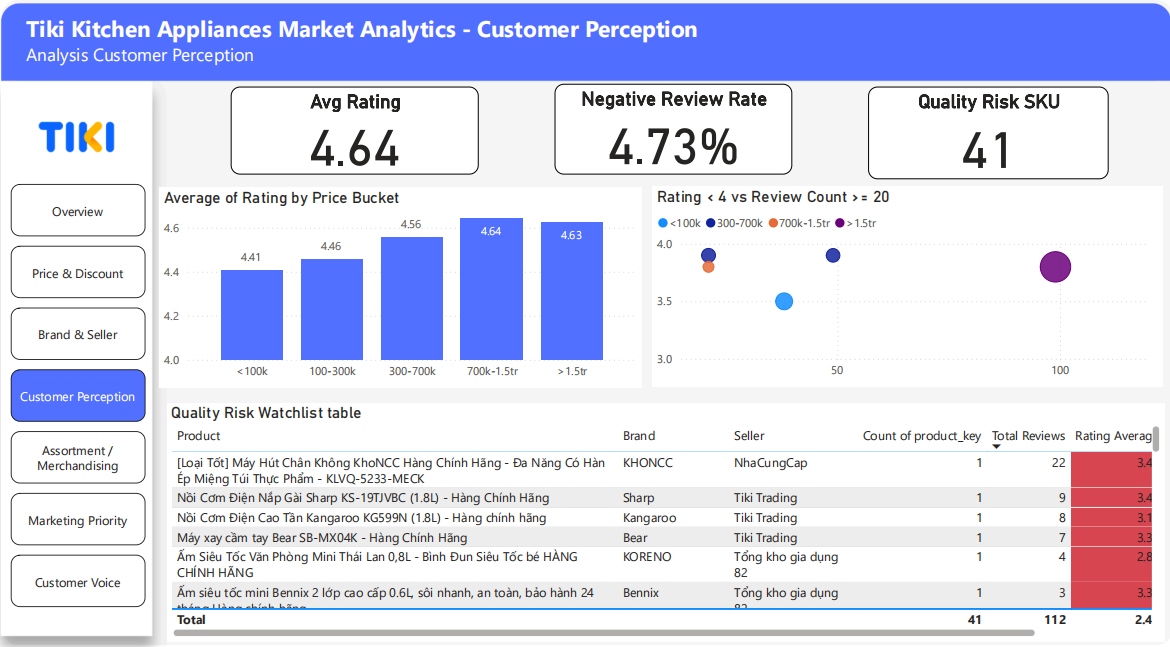

This screenshot's page, from the dashboard's own definition file:
{"tool":"powerbi","page":{"name":"Customer Perception","canvas":[1280,720],"ordinal":3},"visuals":[{"type":"textbox","box":[38.6,24.3,904.3,78.6],"z":0},{"type":"card","title":"Avg Rating","fields":{"Values":["_Measures.Avg Rating"]},"box":[261.7,108.3,265,93.3],"z":2000},{"type":"card","title":"Negative Review Rate","fields":{"Values":["_Measures.Negative Review Rate"]},"box":[608.3,105,253.3,96.7],"z":3000},{"type":"card","title":"Quality Risk SKU","fields":{"Values":["_Measures.Quality Risk SKU Count"]},"box":[943.3,108.3,256.7,98.3],"z":4000},{"type":"scatterChart","title":"Rating < 4 vs Review Count >= 20","fields":{"Category":["dim_product.product_key"],"Series":["fact_product_metrics.price_bucket"],"Size":["_Measures.Total Units Sold"],"X":["Sum(fact_product_metrics.crawled_review_count)"],"Y":["Avg(fact_product_metrics.rating_average)"]},"box":[713.3,215,545,214.2],"z":7000},{"type":"tableEx","title":"Quality Risk Watchlist table","fields":{"Values":["dim_product.product_name","dim_brand.brand_name","dim_seller.seller_name","dim_product.product_key","Sum(fact_product_metrics.review_count)","Avg(fact_product_metrics.rating_average)","Sum(fact_product_metrics.quantity_sold_value)"]},"box":[193.8,446.2,1066.2,255],"z":8000},{"type":"clusteredColumnChart","title":"Average of Rating by Price Bucket","fields":{"Category":["fact_product_metrics.price_bucket"],"Y":["Avg(fact_product_metrics.rating_average)"]},"box":[185.7,215.7,515.7,214.3],"z":9000},{"type":"pageNavigator","box":[27,211.9,143.6,456.5],"z":10000}]}

Visuals, with their boxes on the page's 1280x720 design canvas (x1, y1, x2, y2). These are canvas units, not pixel positions in the 1170x647 screenshot, which may show the page scaled, cropped or inside an application window:
textbox: {"x1": 39, "y1": 24, "x2": 943, "y2": 103}
"Avg Rating" card: {"x1": 262, "y1": 108, "x2": 527, "y2": 202}
"Negative Review Rate" card: {"x1": 608, "y1": 105, "x2": 862, "y2": 202}
"Quality Risk SKU" card: {"x1": 943, "y1": 108, "x2": 1200, "y2": 207}
"Rating < 4 vs Review Count >= 20" scatterChart: {"x1": 713, "y1": 215, "x2": 1258, "y2": 429}
"Quality Risk Watchlist table" tableEx: {"x1": 194, "y1": 446, "x2": 1260, "y2": 701}
"Average of Rating by Price Bucket" clusteredColumnChart: {"x1": 186, "y1": 216, "x2": 701, "y2": 430}
pageNavigator: {"x1": 27, "y1": 212, "x2": 171, "y2": 668}
